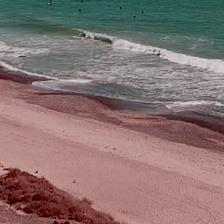surfer: (133, 15, 136, 18), (80, 0, 83, 3), (142, 10, 144, 13), (50, 0, 52, 3), (120, 6, 122, 8), (79, 9, 81, 11)
